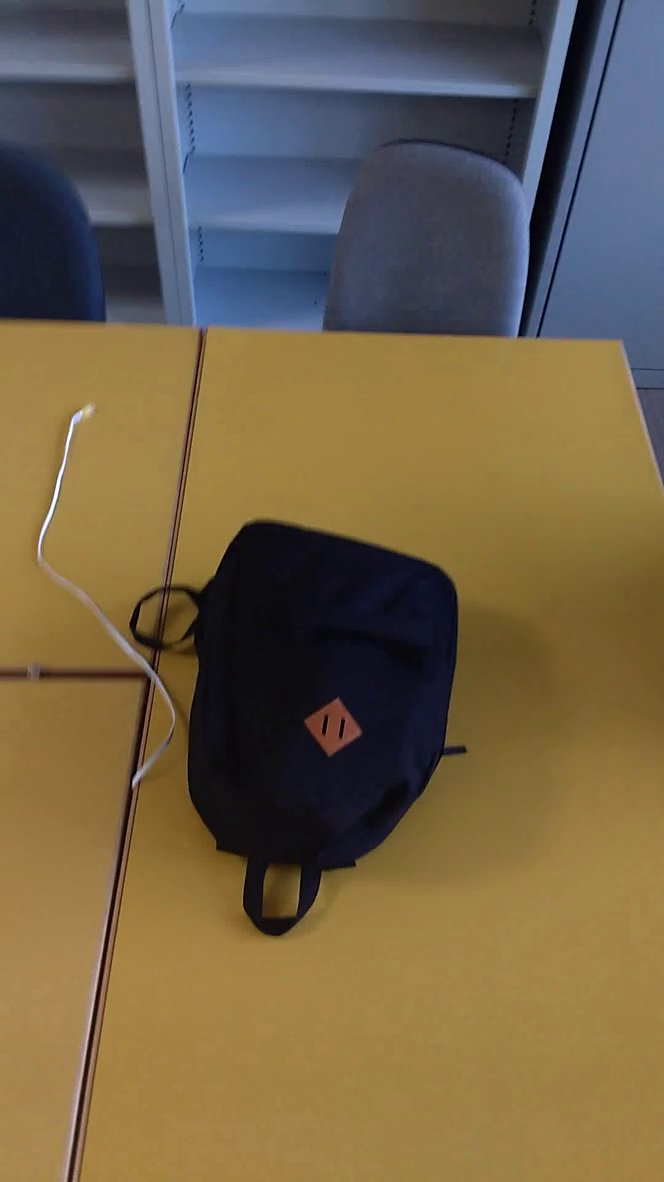bag: (123, 514, 482, 948)
chair: (312, 126, 557, 419)
